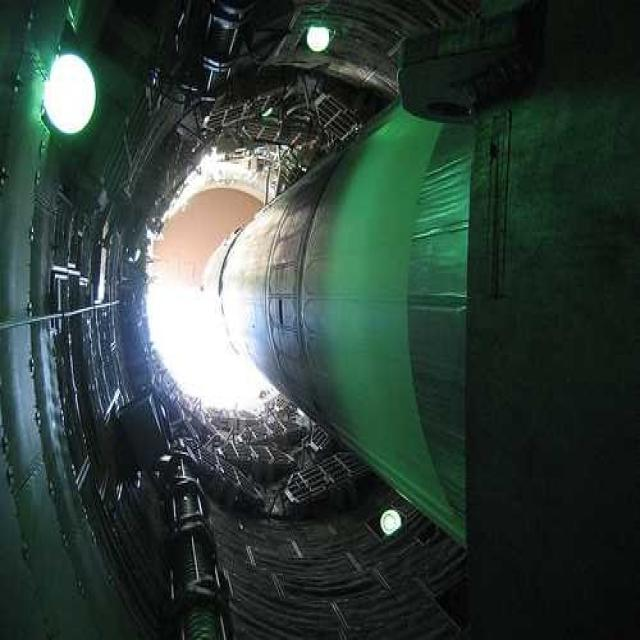missile: (204, 18, 640, 558)
